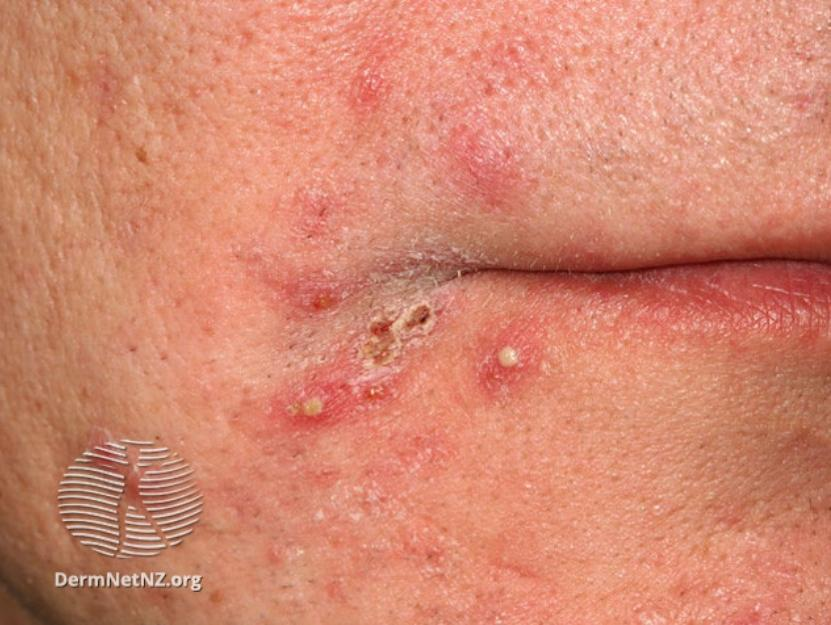papular: (405, 105, 580, 235)
purulent: (460, 320, 570, 428)
sebo-crystan-conglo: (259, 376, 371, 448), (270, 285, 369, 325)
whitehead: (302, 505, 347, 552)
